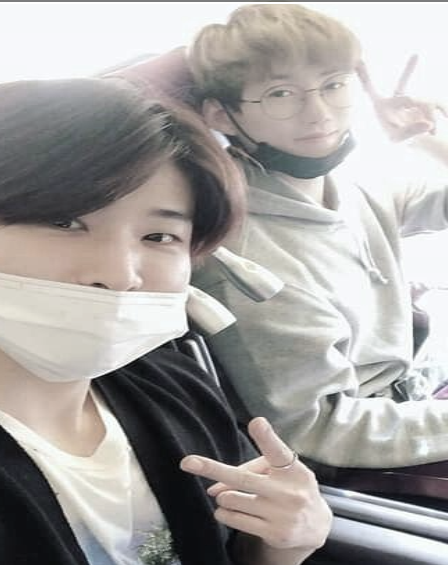mask_weared_incorrect: (1, 79, 219, 386), (192, 5, 369, 180)
